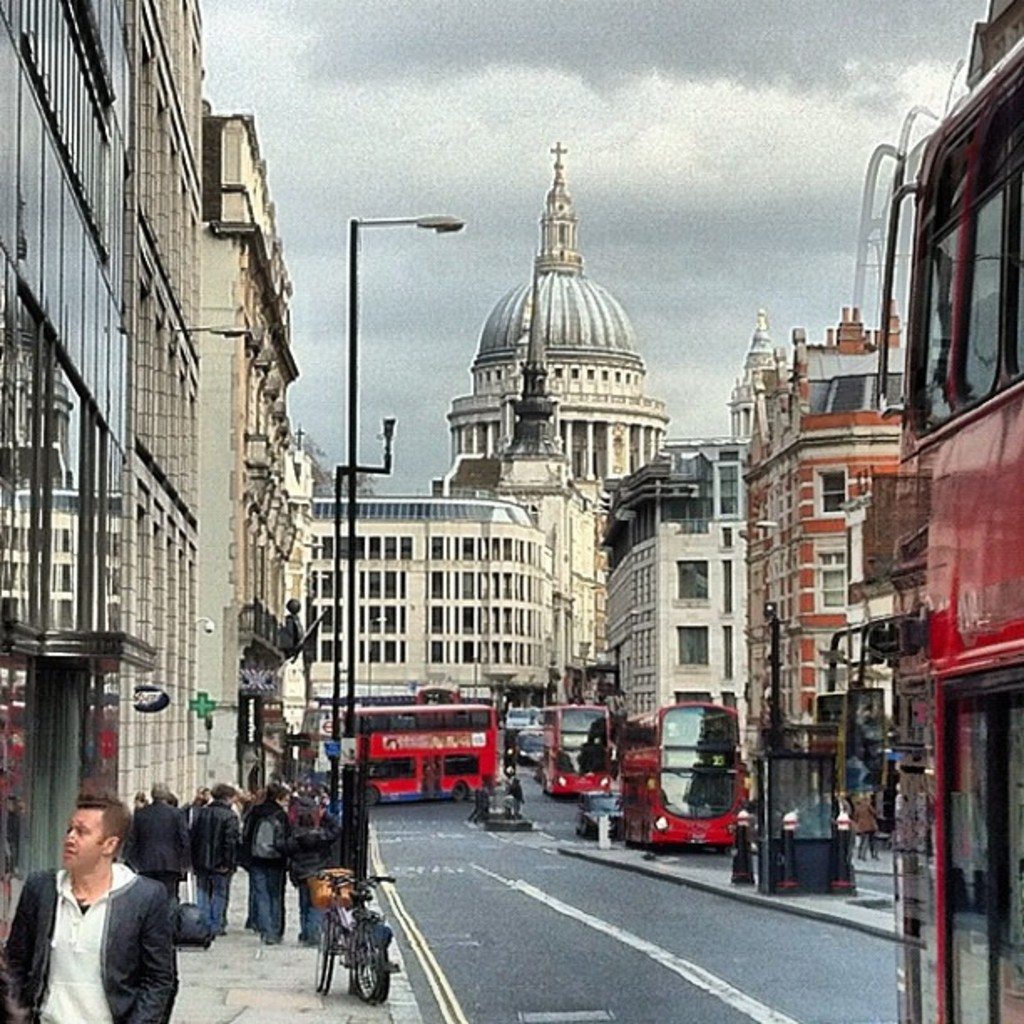Bus: (622, 692, 747, 848), (344, 702, 503, 804), (540, 706, 612, 799), (419, 679, 458, 706)
